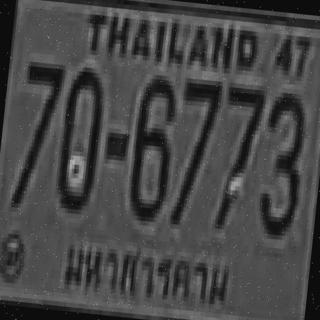N00: (53, 61, 106, 211)
N03: (254, 86, 307, 236)
N06: (126, 73, 176, 218)
N07: (11, 56, 64, 206), (212, 82, 265, 228), (170, 74, 221, 223)
P25: (56, 232, 238, 318)
